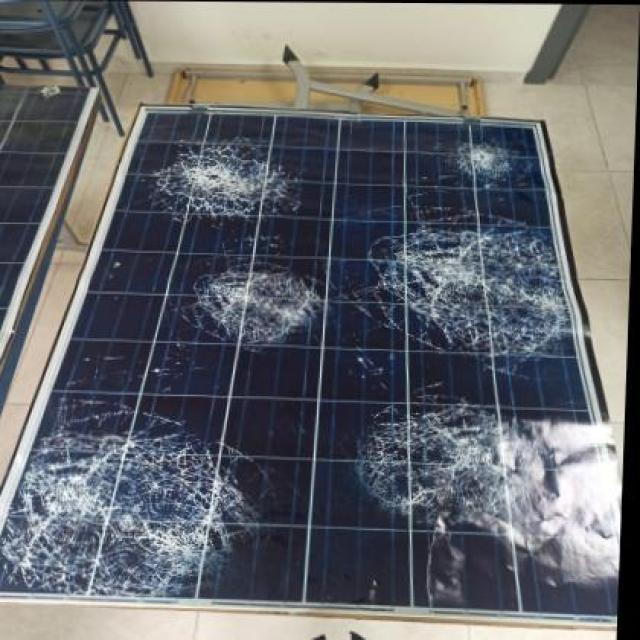cracked: (4, 100, 626, 626)
